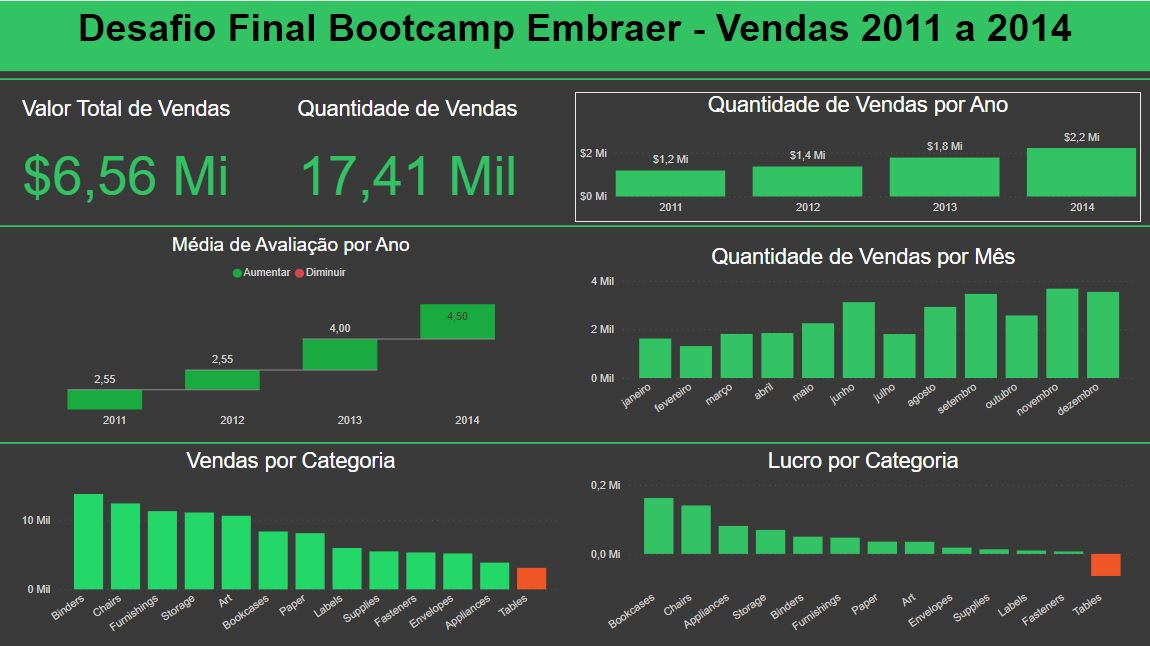

The dashboard page shown, as its layout file describes it:
{"tool":"powerbi","page":{"name":"Página 1","canvas":[1280,720],"ordinal":0},"visuals":[{"type":"card","title":"Quantidade de Vendas","fields":{"Values":["Count(desafiofinal torder.idorder)"]},"box":[324.4,105.6,258.9,141.1],"z":0},{"type":"textbox","box":[0,0,1280,77.8],"z":1000},{"type":"shape","box":[0,77.8,1280,17.8],"z":2000},{"type":"card","title":"Valor Total de Vendas","fields":{"Values":["Sum(desafiofinal sales.sales)"]},"box":[18.9,105.6,244.4,141.1],"z":3000},{"type":"clusteredColumnChart","title":"Quantidade de Vendas por Ano","fields":{"Category":["desafiofinal torder.orderDate.Variation.Hierarquia de datas.Ano","desafiofinal torder.orderDate.Variation.Hierarquia de datas.Mês"],"Y":["Sum(desafiofinal sales.sales)"]},"box":[640,101.1,628.9,144.4],"z":4000},{"type":"shape","box":[0,241,1280,17.8],"z":5000},{"type":"clusteredColumnChart","title":"Quantidade de Vendas por Mês","fields":{"Category":["desafiofinal torder.orderDate.Variation.Hierarquia de datas.Mês"],"Y":["CountNonNull(desafiofinal sales.order_idorder)"]},"box":[652.7,270.3,615.8,211.6],"z":6000},{"type":"waterfallChart","title":"Média de Avaliação por Ano","fields":{"Category":["desafiofinal torder.orderDate.Variation.Hierarquia de datas.Ano"],"Y":["Avg(rating.rating)"]},"box":[19.1,258.8,610.7,223.1],"z":8000},{"type":"lineClusteredColumnComboChart","title":"Vendas por Categoria","fields":{"Category":["desafiofinal subcategory.subCategory"],"Y":["Sum(desafiofinal sales.quantity)"]},"box":[19.1,497.2,610.7,223.1],"z":9000},{"type":"clusteredColumnChart","title":"Lucro por Categoria","fields":{"Y":["Sum(desafiofinal sales.profit)"],"Category":["desafiofinal subcategory.subCategory"]},"box":[652.7,497.2,615.8,221.8],"z":10000},{"type":"shape","box":[0,484.5,1280,12.7],"z":11000}]}

Visuals, with their boxes in screenshot pixels (x1, y1, x2, y2), scaled from the page's 1280x720 canvas onto the 1150x646 screenshot:
"Quantidade de Vendas" card: bbox=(291, 95, 524, 221)
textbox: bbox=(0, 0, 1149, 70)
shape: bbox=(0, 70, 1149, 86)
"Valor Total de Vendas" card: bbox=(17, 95, 237, 221)
"Quantidade de Vendas por Ano" clusteredColumnChart: bbox=(575, 91, 1140, 220)
shape: bbox=(0, 216, 1149, 232)
"Quantidade de Vendas por Mês" clusteredColumnChart: bbox=(586, 243, 1140, 432)
"Média de Avaliação por Ano" waterfallChart: bbox=(17, 232, 566, 432)
"Vendas por Categoria" lineClusteredColumnComboChart: bbox=(17, 446, 566, 645)
"Lucro por Categoria" clusteredColumnChart: bbox=(586, 446, 1140, 645)
shape: bbox=(0, 435, 1149, 446)
